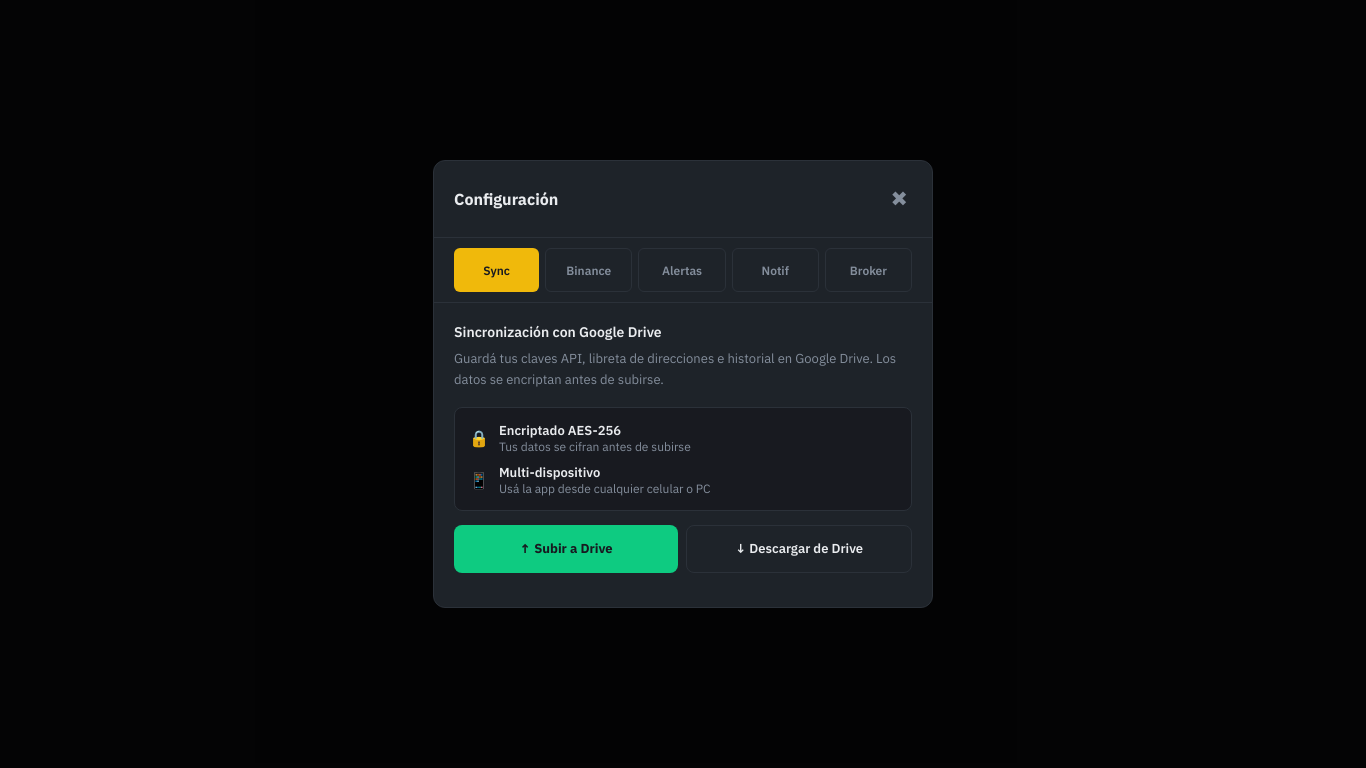
Test: Settings — tab switching › click en tab Notif → muestra toggle de notificaciones
This screenshot has width=1366, height=768.
Click the button "Notif" at (775, 270), box [732, 248, 819, 292]
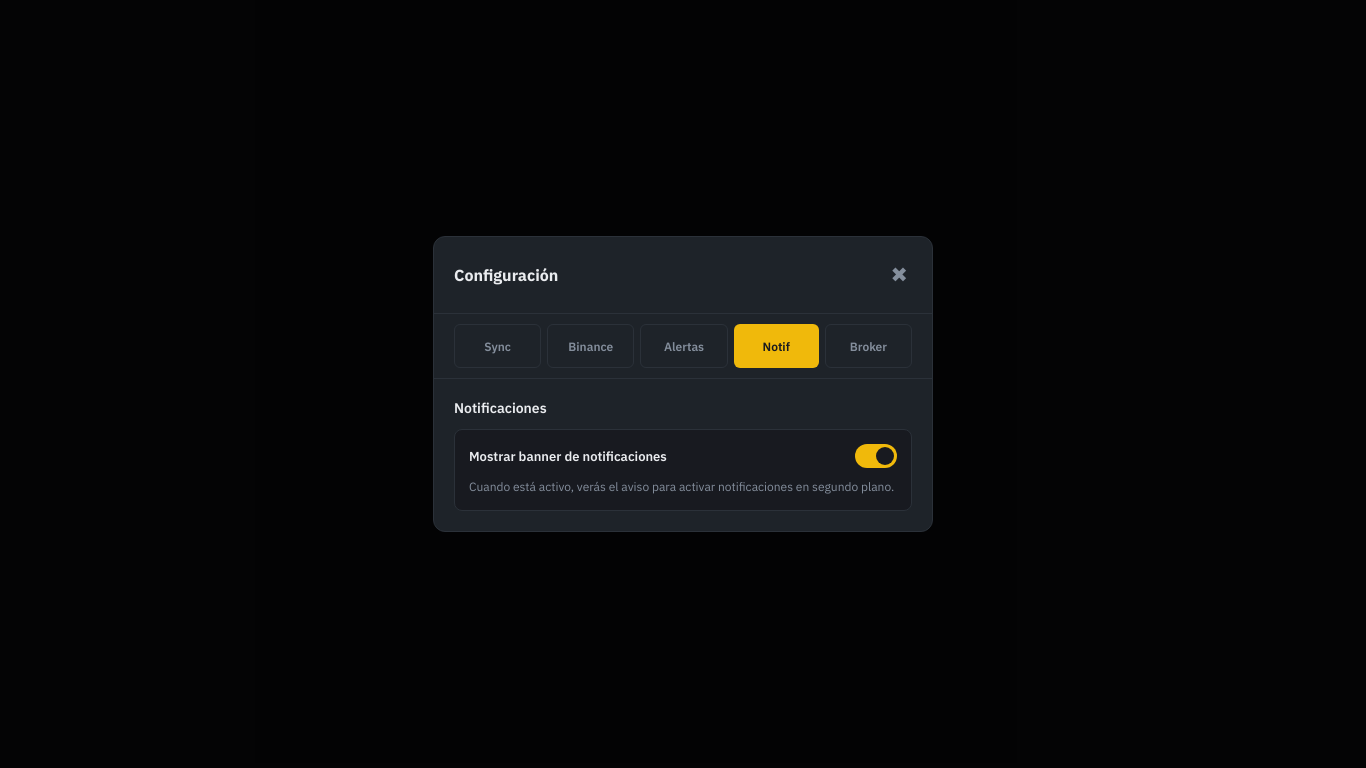
Now the heading "Notificaciones" is shown, box [454, 399, 547, 417]
Now the text "Mostrar banner de notificaciones" is shown, box [469, 448, 667, 464]
